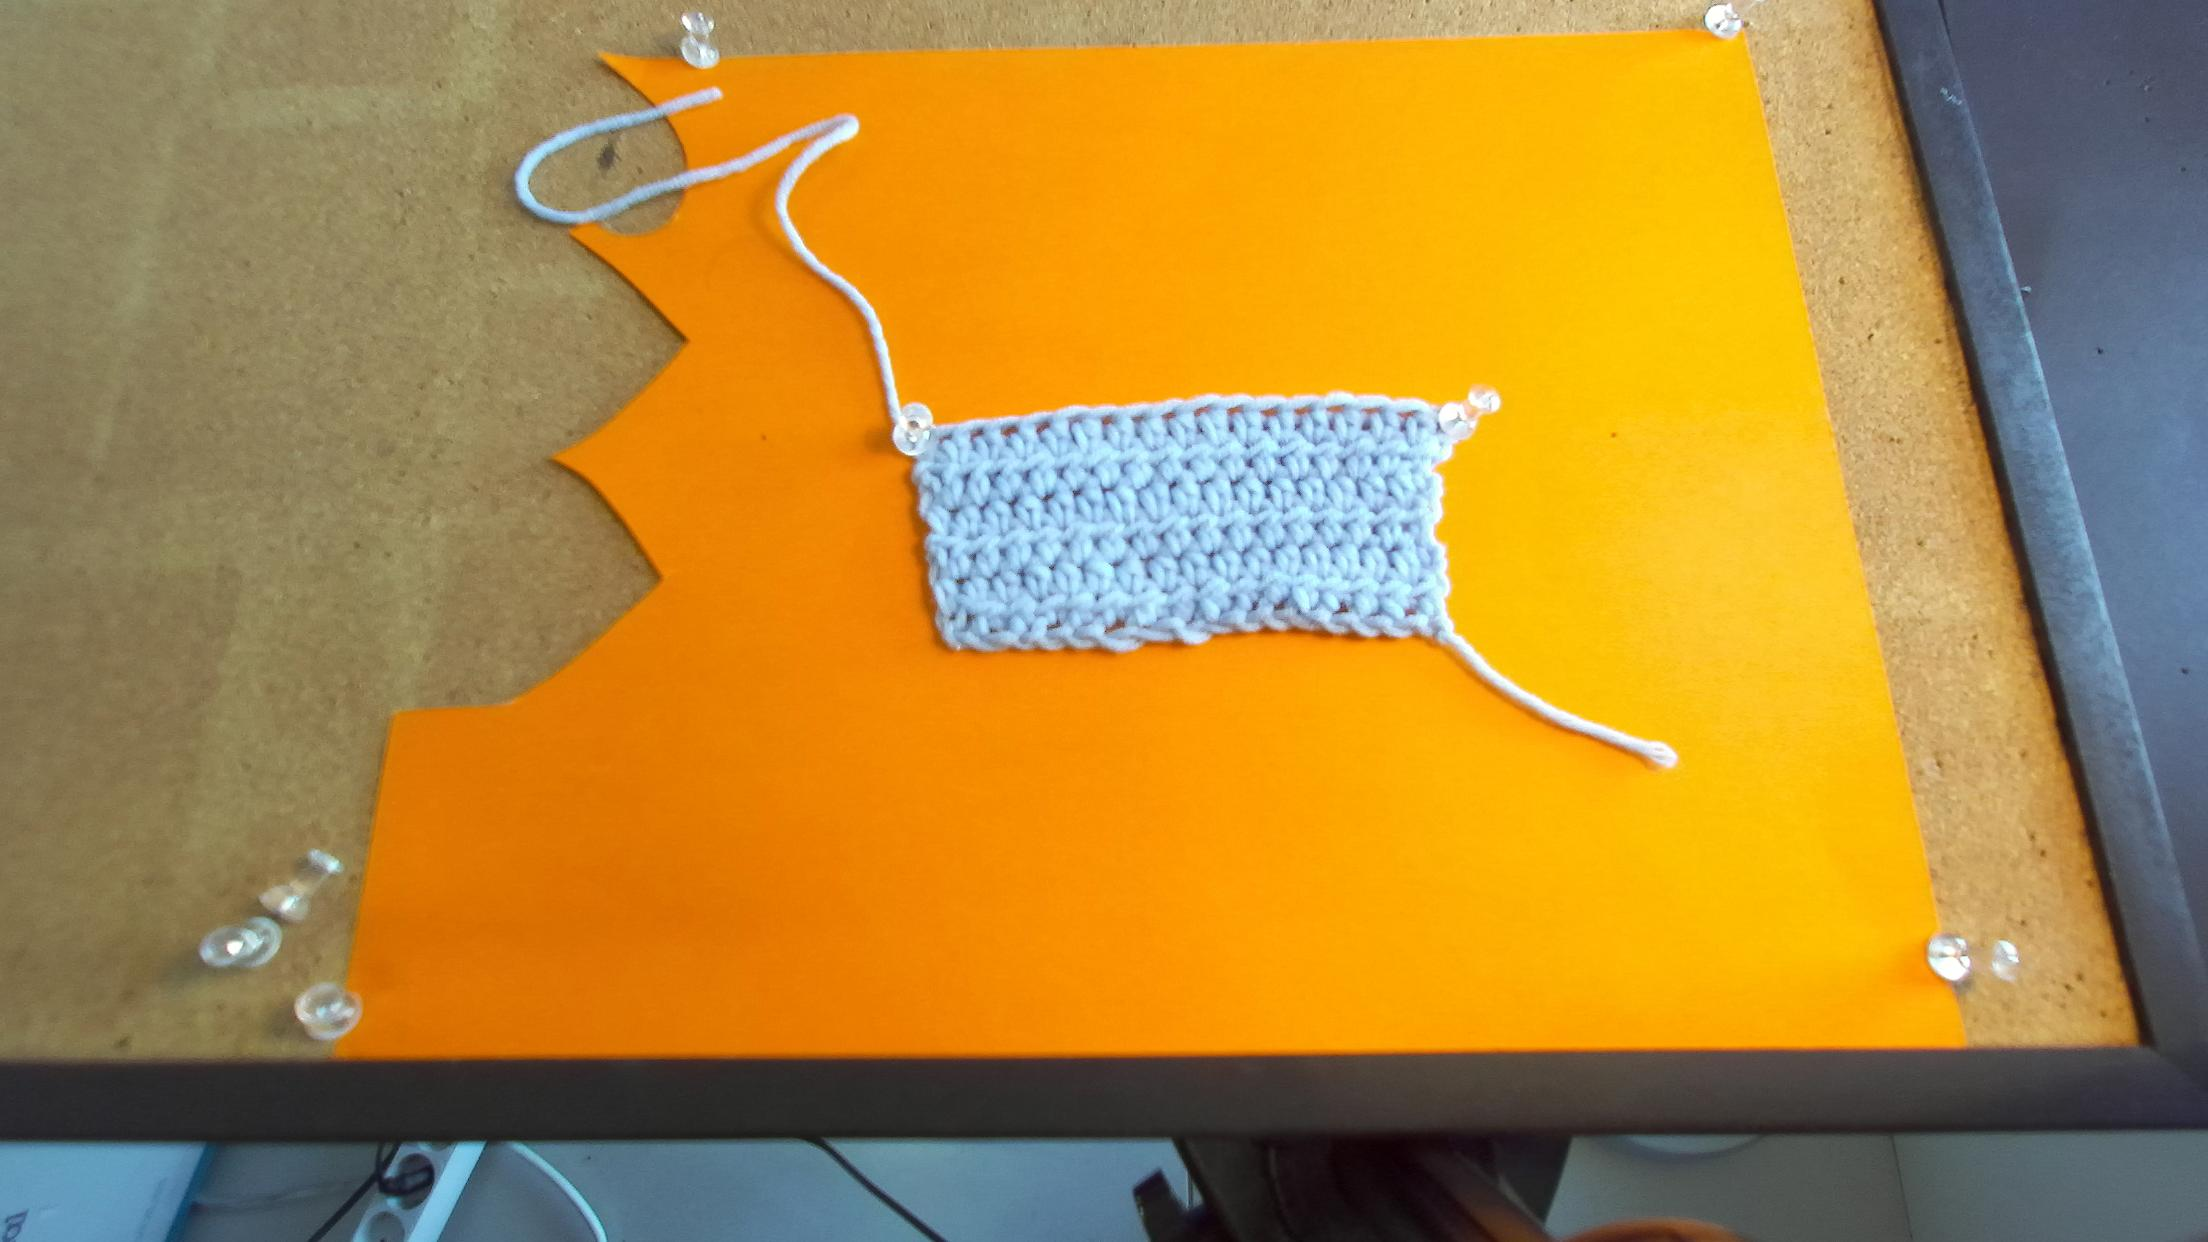hole: (1067, 414, 1082, 434), (1000, 424, 1019, 439), (968, 427, 984, 443), (1035, 420, 1051, 436), (1193, 404, 1211, 418), (1395, 410, 1418, 420), (1259, 406, 1278, 417), (1293, 405, 1313, 415), (938, 432, 953, 445), (1227, 406, 1243, 418), (1360, 406, 1383, 414), (1100, 415, 1115, 427), (1325, 405, 1347, 413), (1159, 411, 1178, 420), (1130, 414, 1146, 424)
swatch: (892, 391, 1497, 658)
